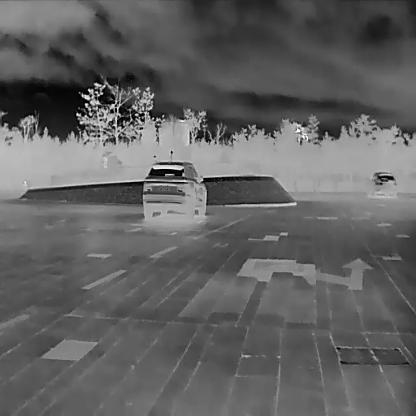car: (142, 160, 206, 223), (368, 171, 397, 199)
